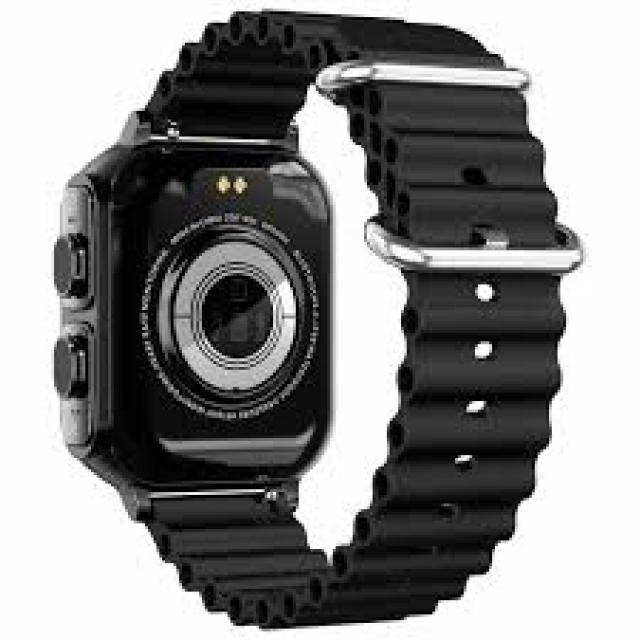objects: (54, 11, 580, 626)
